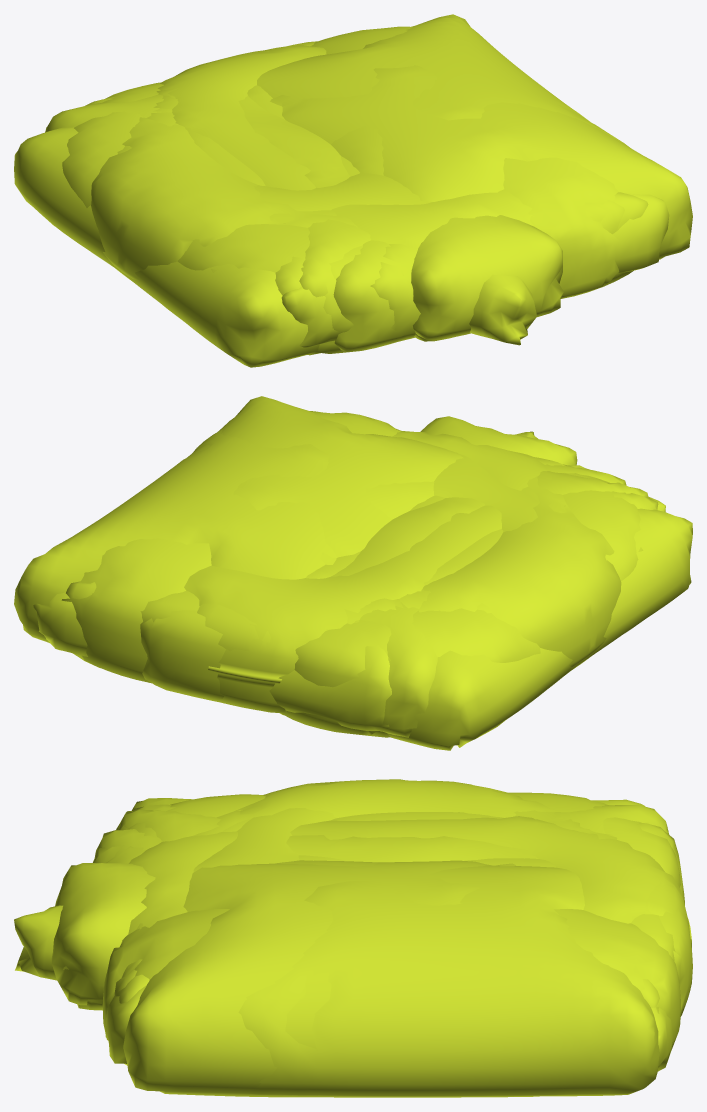
Rendered from Balloon.fbx.
The picture shows the model from 3 angles, top to bottom: view 1: azimuth 30°, elevation 25°; view 2: azimuth 150°, elevation 25°; view 3: azimuth 270°, elevation 25°; orthographic projection. The views are drawn at different scales.
Visible parts, largest first — view 1: M.002, W.002, C.002, Y.002, A.002, K.002, U.002, P.002, Q.002, E.002, V.002, F.002 (+5 smaller); view 2: M.002, W.002, C.002, A.002, G.002, D.002, R.002, Q.002, E.002, K.002, U.002, Y.002 (+4 smaller); view 3: W.002, M.002, A.002, Y.002, C.002, E.002, U.002, Q.002, K.002, G.002, V.002, D.002 (+6 smaller).
Part boxes in pixels (x1,y1,x2,y2): M.002: (62,26,692,367); W.002: (14,14,633,355); C.002: (91,88,357,280); Y.002: (411,215,563,340); A.002: (158,45,326,190); K.002: (299,193,669,297); U.002: (331,189,534,248); P.002: (333,240,414,351); Q.002: (117,94,431,211); E.002: (238,96,350,187); V.002: (469,274,536,345); F.002: (341,156,420,344); M.002: (70,396,692,737); W.002: (14,412,643,750); C.002: (344,476,621,670); A.002: (184,505,501,712); G.002: (140,529,503,701); D.002: (360,491,658,737); R.002: (269,620,391,730); Q.002: (261,454,539,713); E.002: (330,497,485,576); K.002: (33,471,648,661); U.002: (393,431,548,490); Y.002: (420,416,577,465); W.002: (102,794,659,1096); M.002: (123,792,680,1097); A.002: (290,816,691,947); Y.002: (51,863,155,1005); C.002: (189,779,617,839); E.002: (286,835,538,862); U.002: (121,831,237,942); Q.002: (102,793,660,1010); K.002: (106,810,673,1071); G.002: (331,812,692,1016); V.002: (14,905,62,980); D.002: (133,804,669,834).
Bounding box in the file's own units: 67.84 × 17.08 × 77.7.
